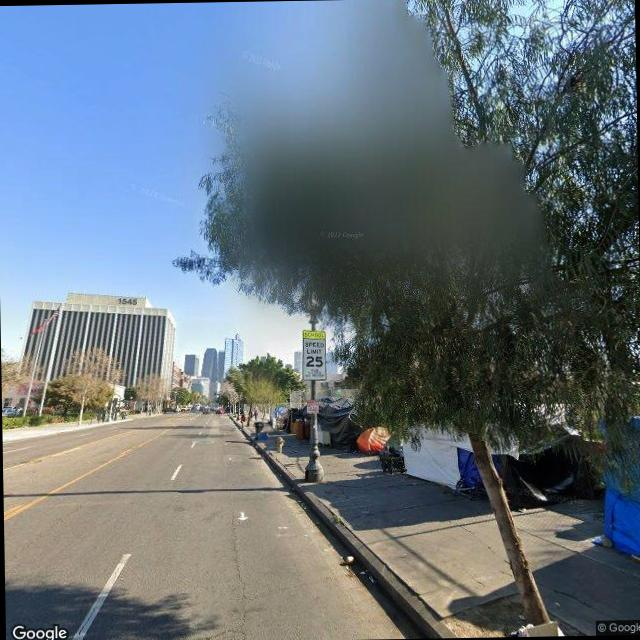crack: (224, 499, 250, 640)
